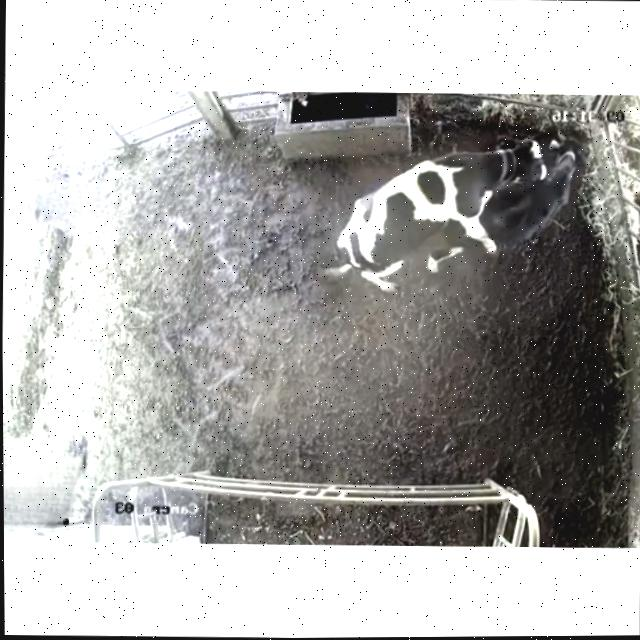ride: (314, 125, 550, 315)
